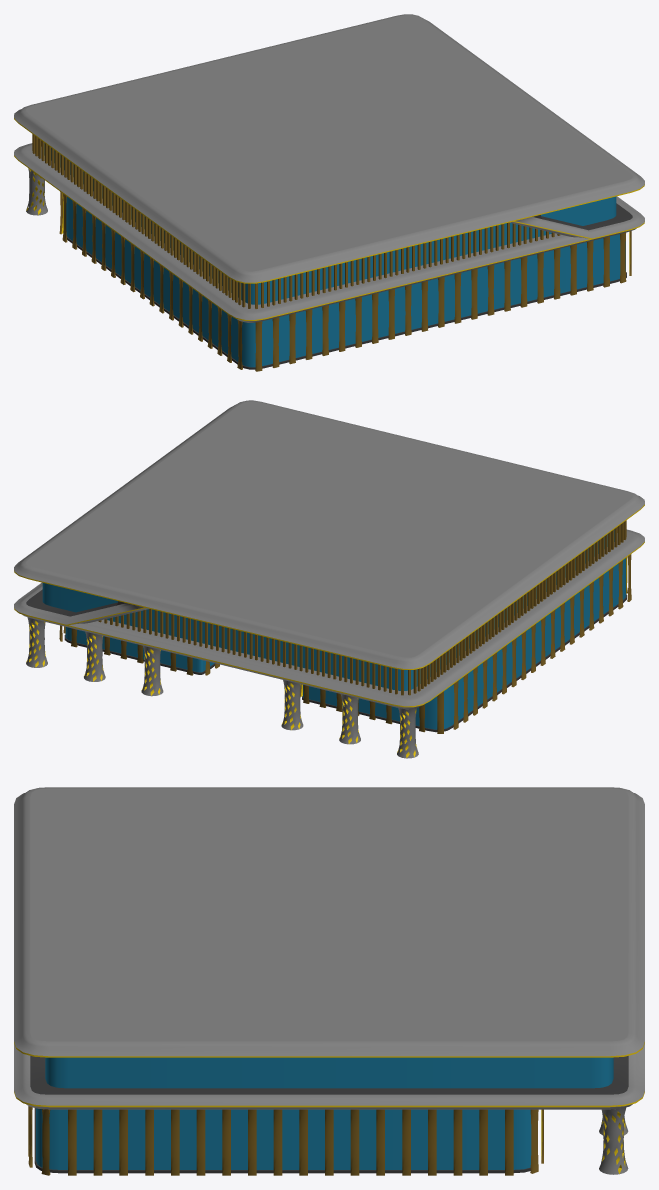
The model's file is SM_MK9_Building_Base_001.fbx.
3 renders of one model, top to bottom at view 1: azimuth 30°, elevation 25°; view 2: azimuth 150°, elevation 25°; view 3: azimuth 270°, elevation 25°, orthographic. The views are drawn at different scales.
Parts seen in each view (by area): view 1: SM_MK9_Building_Base_001; view 2: SM_MK9_Building_Base_001; view 3: SM_MK9_Building_Base_001.
Boxes of the visible parts, x1=… form: SM_MK9_Building_Base_001: x1=14, y1=14, x2=644, y2=371; SM_MK9_Building_Base_001: x1=14, y1=400, x2=644, y2=758; SM_MK9_Building_Base_001: x1=14, y1=787, x2=644, y2=1175.
Bounding box in the file's own units: 2141 × 500 × 2141.
